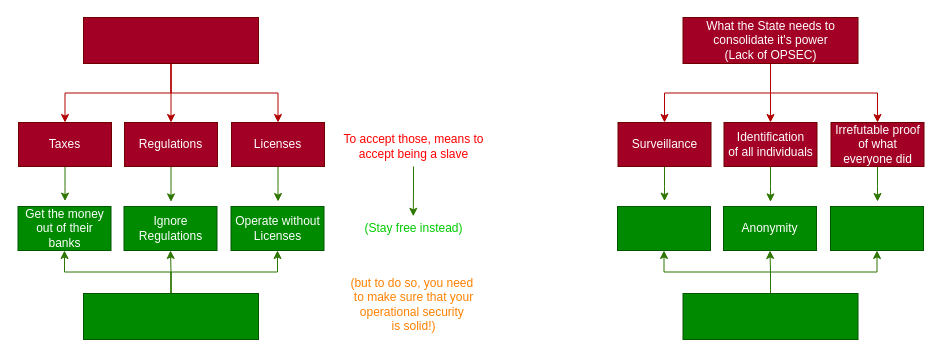
The diagram is 941 pixels wide and 357 high, and some of its shapes have lost their labels. Here are the shapes that lost their labels. From the top down, the box of each, then its label:
(82, 16, 258, 64): What the State enforces to justify it's existance
(616, 206, 710, 250): Privacy
(830, 206, 924, 250): Deniability
(82, 292, 258, 340): Agorism
(682, 292, 858, 340): What the individual needs to stay free (OPSEC)
